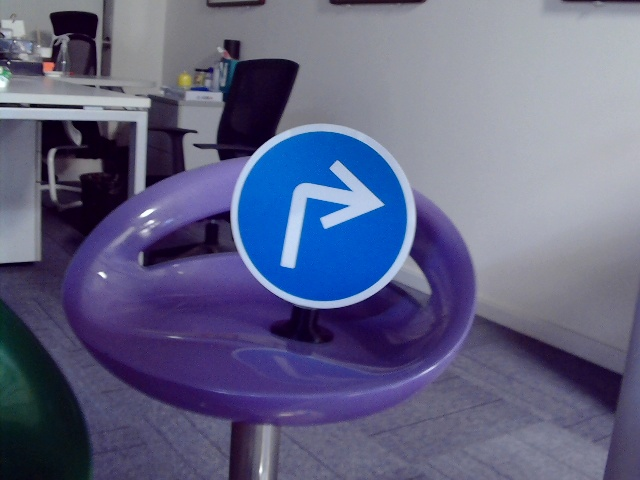turn_right: (273, 157, 379, 274)
